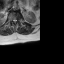CCS_normal: (14, 18, 15, 25)
LFS_stenosis: (17, 18, 18, 22)
LLS_normal: (15, 18, 17, 23)
RFS_stenosis: (11, 18, 12, 22)
RLS_stenosis: (12, 18, 14, 23)
